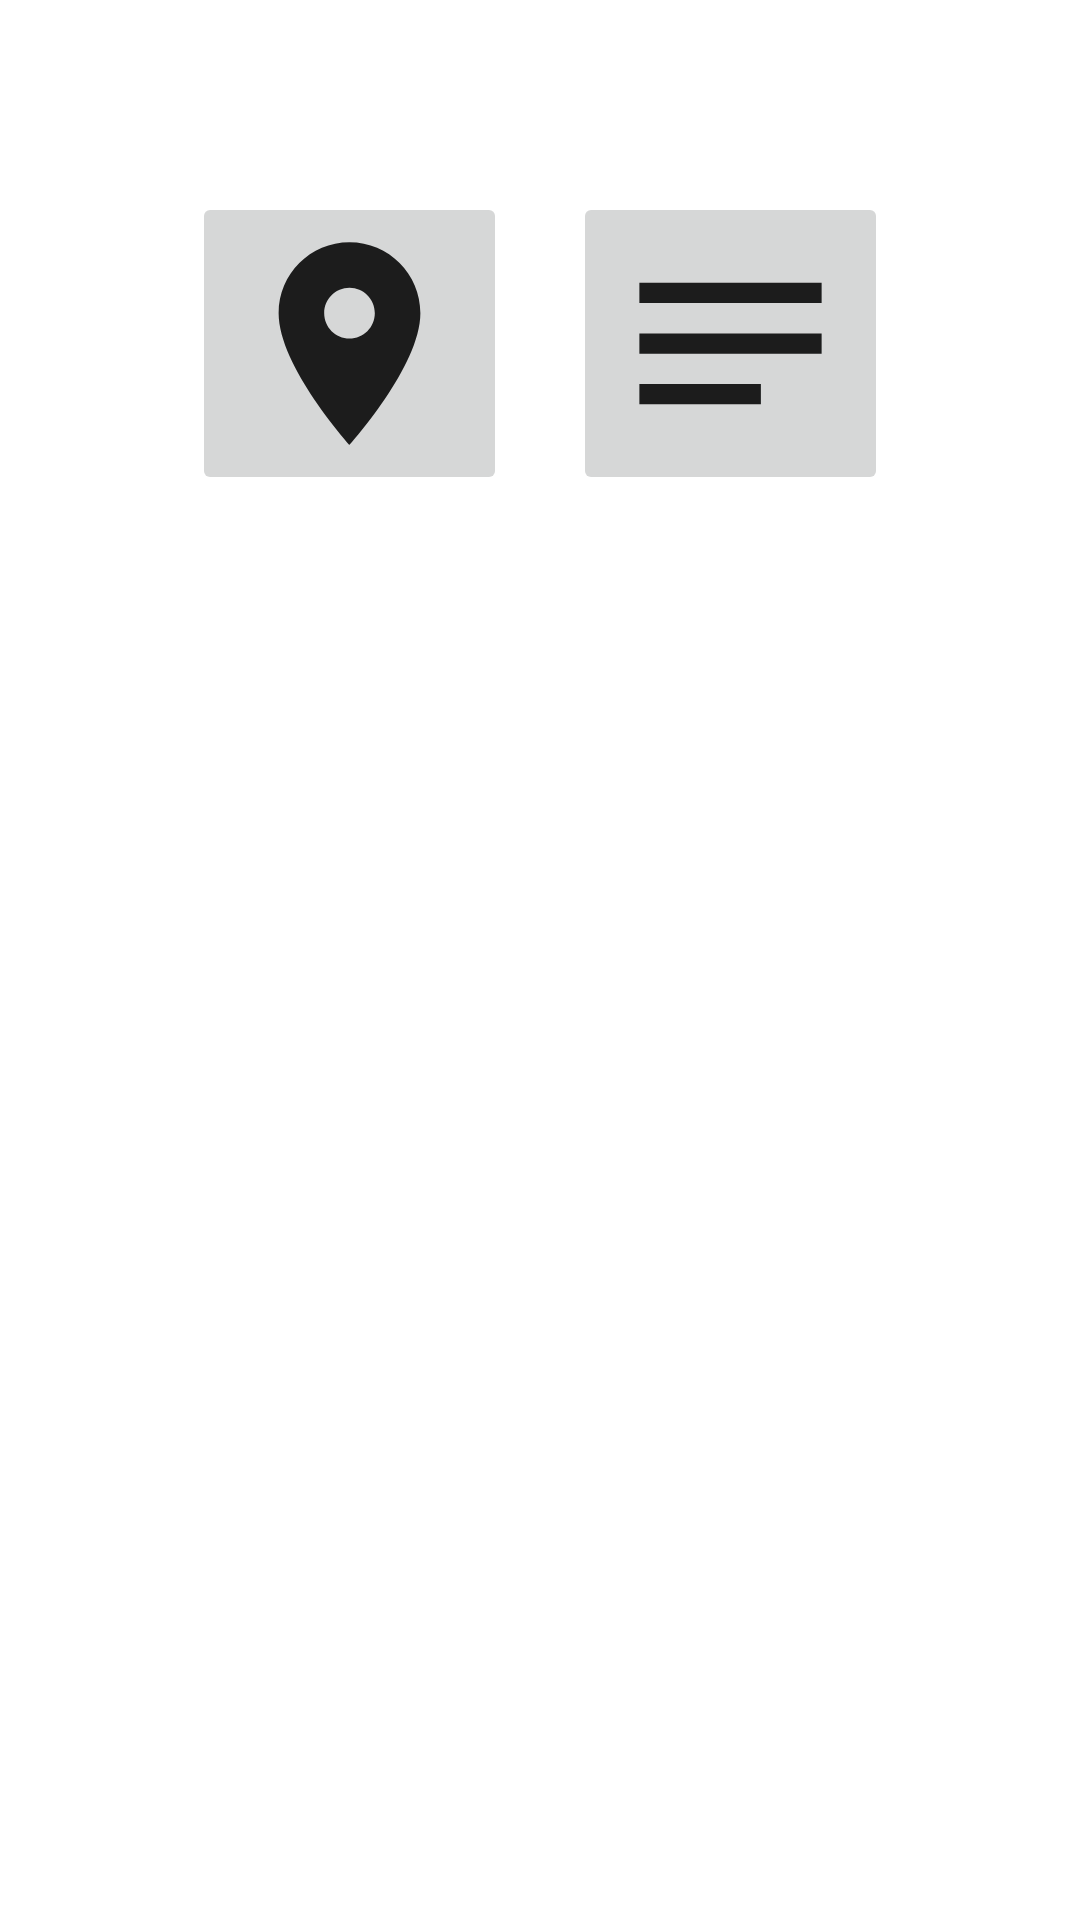

Screen size 1080x1920. Icon name, then its box in pixels as box=[x1, y1, x2, y2]:
display and modify notes: box=[585, 210, 876, 477]
get current location: box=[204, 210, 495, 477]
